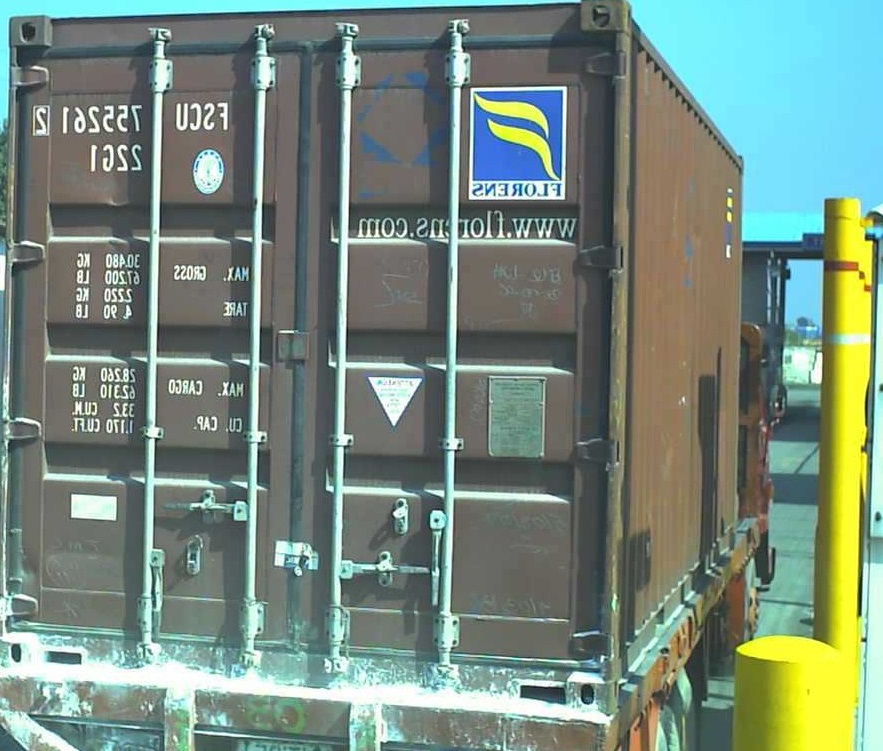container_door: (8, 14, 620, 707)
